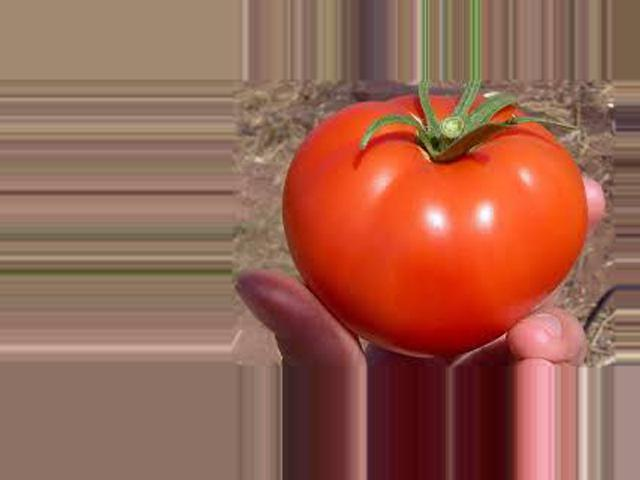tomato: (287, 96, 587, 354)
